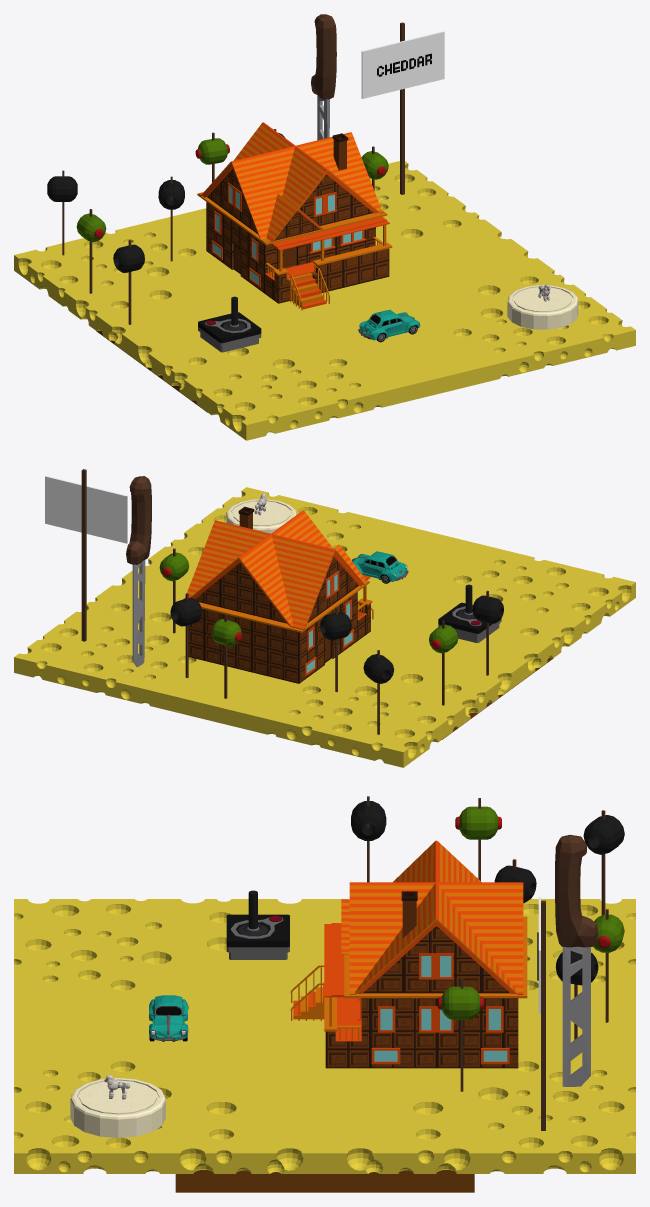
3 views of the same model, one above another, from view 1: azimuth 30°, elevation 25°; view 2: azimuth 150°, elevation 25°; view 3: azimuth 270°, elevation 25° (orthographic). The views are drawn at different scales.
Visible parts, largest first — view 1: Cube.022, Cube, Cube.023, Cylinder.016, Cube.024, OBJRANDOM_JOYSTICK, VEHICLES_VOLKSWAGEN, Sphere.017, Sphere.016, Sphere.018, Sphere.020, Sphere.022 (+1 smaller); view 2: Cube.022, Cube, Cube.023, Cube.024, OBJRANDOM_JOYSTICK, Cylinder.016, VEHICLES_VOLKSWAGEN, Sphere.021, Sphere.022, Sphere.020, Sphere.017, Sphere.016 (+2 smaller); view 3: Cube.022, Cube, Cube.024, UNDERGROUND_ART_PIECE_VAN_GOGH, Cylinder.016, OBJRANDOM_JOYSTICK, VEHICLES_VOLKSWAGEN, Sphere.019, Sphere.016, Cube.023, Sphere.018, Sphere.017 (+3 smaller).
Part boxes in pixels (bbox=[...]): Cube.022: bbox=[14, 161, 635, 440]; Cube: bbox=[197, 122, 392, 310]; Cube.023: bbox=[361, 22, 444, 194]; Cylinder.016: bbox=[507, 285, 578, 329]; Cube.024: bbox=[311, 14, 336, 140]; OBJRANDOM_JOYSTICK: bbox=[198, 296, 261, 352]; VEHICLES_VOLKSWAGEN: bbox=[358, 309, 420, 342]; Sphere.017: bbox=[113, 240, 144, 324]; Sphere.016: bbox=[47, 170, 77, 255]; Sphere.018: bbox=[76, 209, 106, 293]; Sphere.020: bbox=[158, 176, 184, 261]; Sphere.022: bbox=[195, 132, 229, 182]; Cube.022: bbox=[14, 487, 635, 767]; Cube: bbox=[183, 506, 373, 683]; Cube.023: bbox=[45, 469, 127, 641]; Cube.024: bbox=[126, 476, 151, 667]; OBJRANDOM_JOYSTICK: bbox=[438, 584, 501, 642]; Cylinder.016: bbox=[226, 499, 296, 533]; VEHICLES_VOLKSWAGEN: bbox=[352, 551, 408, 583]; Sphere.021: bbox=[170, 593, 202, 677]; Sphere.022: bbox=[210, 614, 242, 698]; Sphere.020: bbox=[320, 607, 351, 692]; Sphere.017: bbox=[472, 590, 503, 675]; Sphere.016: bbox=[363, 650, 394, 734]; Cube.022: bbox=[14, 899, 635, 1173]; Cube: bbox=[290, 840, 527, 1068]; Cube.024: bbox=[555, 834, 598, 1086]; UNDERGROUND_ART_PIECE_VAN_GOGH: bbox=[175, 1170, 474, 1192]; Cylinder.016: bbox=[70, 1078, 165, 1137]; OBJRANDOM_JOYSTICK: bbox=[226, 890, 289, 959]; VEHICLES_VOLKSWAGEN: bbox=[149, 995, 188, 1041]; Sphere.019: bbox=[437, 978, 484, 1091]; Sphere.016: bbox=[583, 810, 624, 915]; Cube.023: bbox=[537, 897, 545, 1130]; Sphere.018: bbox=[455, 798, 501, 880]; Sphere.017: bbox=[351, 796, 386, 882].
Bounding box in the file's own units: 3917 × 2132 × 4000.
Materials: 36 (5 with a texture image).
